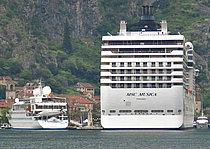Ship: (92, 5, 202, 133), (6, 77, 74, 133)
